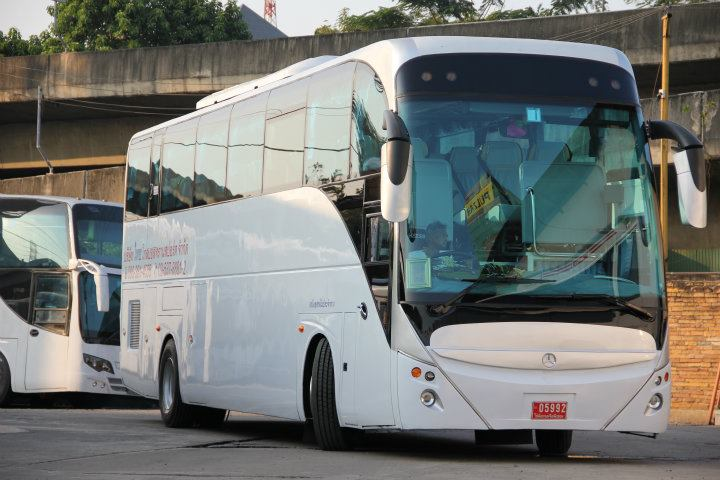bus: (122, 33, 669, 451)
